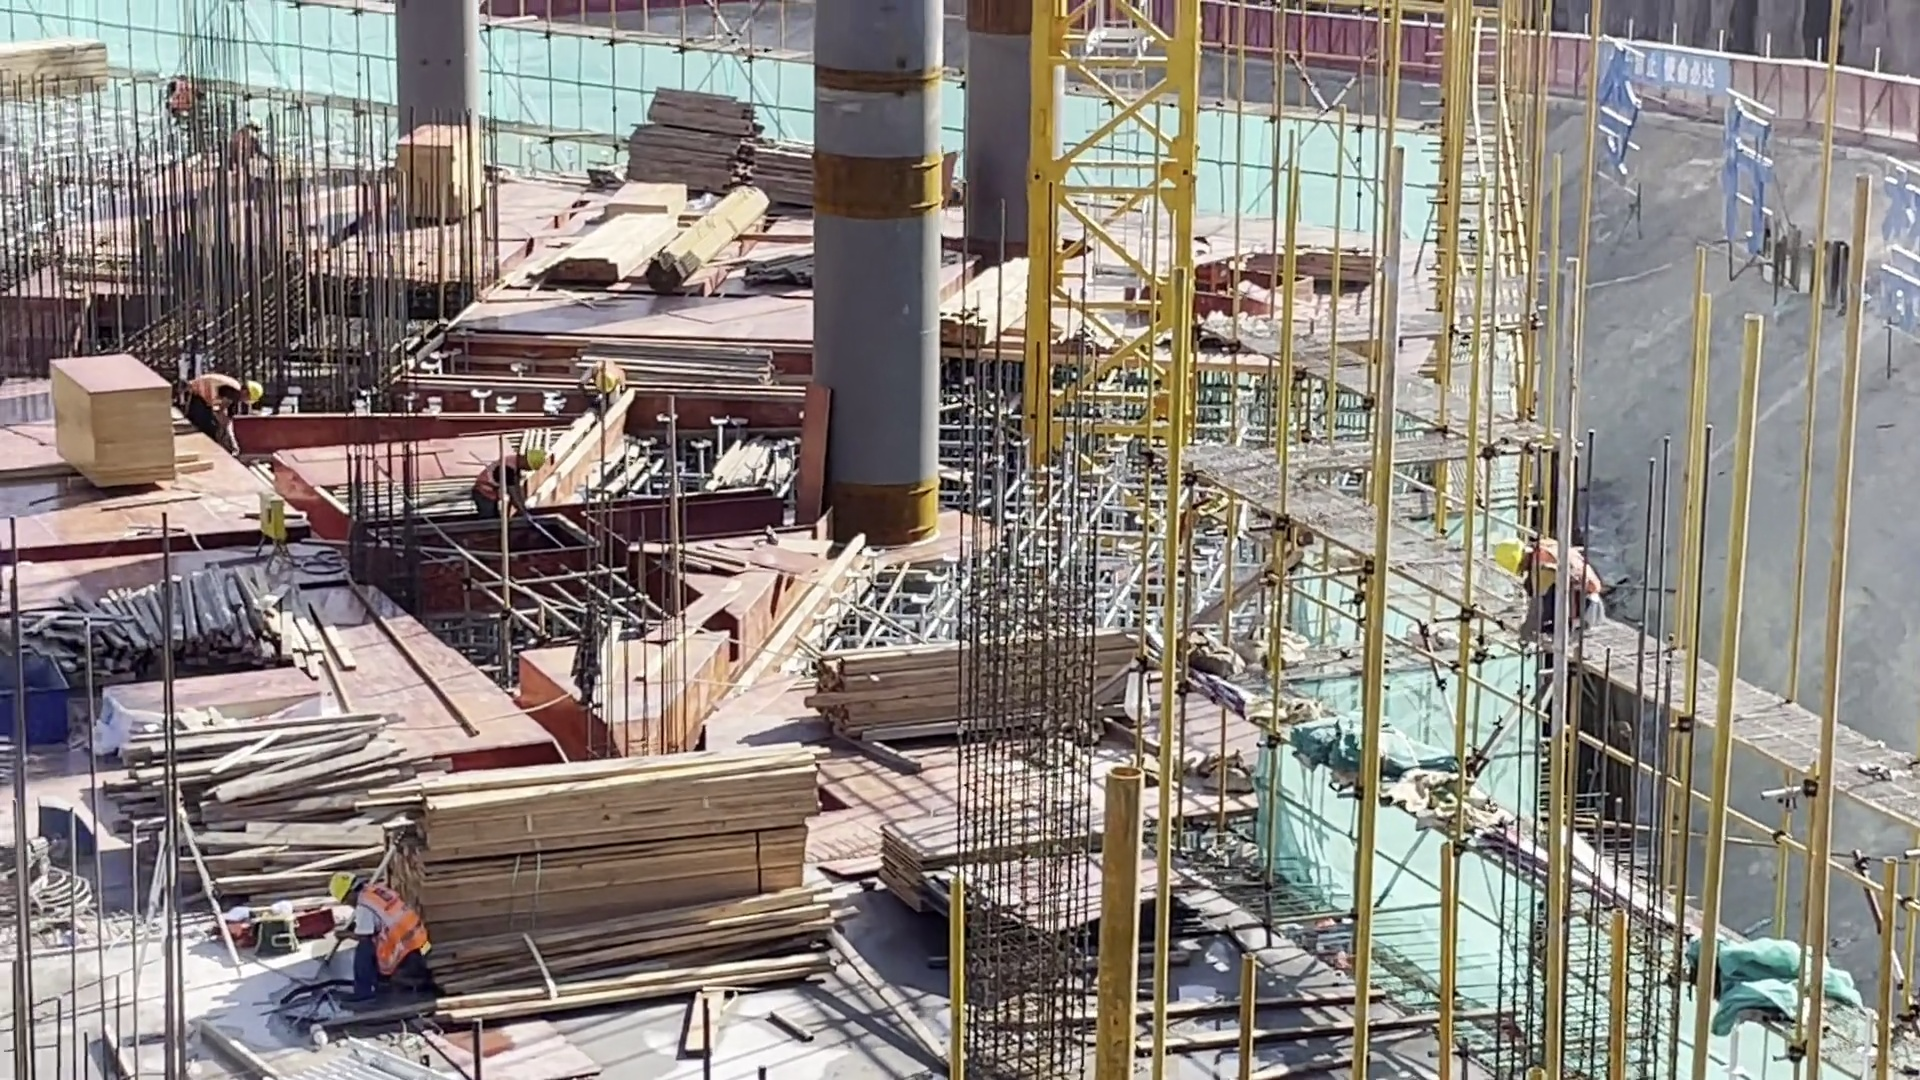board: (49, 336, 218, 482), (396, 118, 501, 236), (1, 33, 113, 85)
ebox: (232, 484, 304, 581)
fence: (1222, 1, 1906, 134)
helmet: (1491, 535, 1542, 587), (517, 435, 560, 480), (322, 864, 360, 910), (239, 374, 267, 410), (598, 371, 625, 396)
person: (328, 871, 449, 1020), (1495, 518, 1611, 641), (460, 417, 563, 515), (180, 356, 265, 449), (574, 355, 645, 420)
slogan: (1596, 34, 1760, 101)
vest: (358, 885, 442, 973), (1537, 539, 1605, 621), (470, 450, 529, 518), (190, 370, 240, 418)
wood: (368, 751, 820, 1017), (794, 628, 1272, 793), (524, 70, 822, 315)
